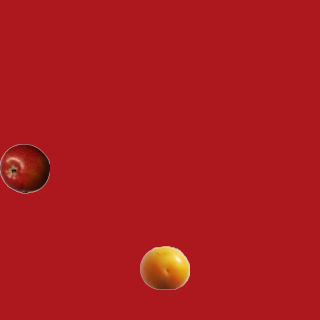Apple Braeburn: (0, 143, 49, 193)
Cherry Wax Yellow: (139, 242, 189, 292)
